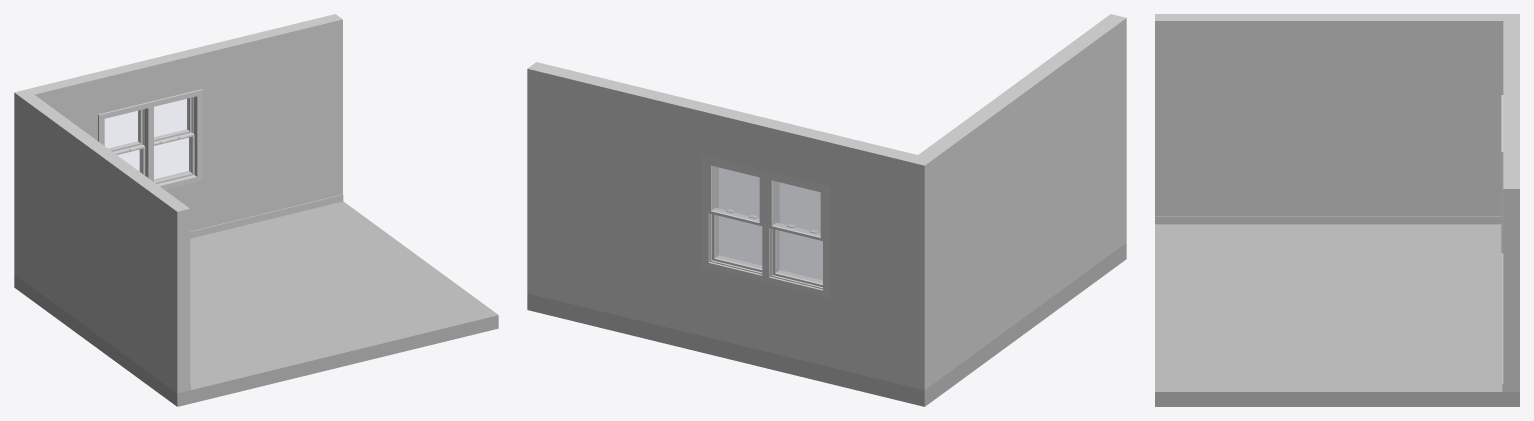
3 renders of one model, left to right at view 1: azimuth 30°, elevation 25°; view 2: azimuth 150°, elevation 25°; view 3: azimuth 270°, elevation 25°, orthographic. The views are drawn at different scales.
Bounding box in the file's own units: 200 × 116 × 176.
